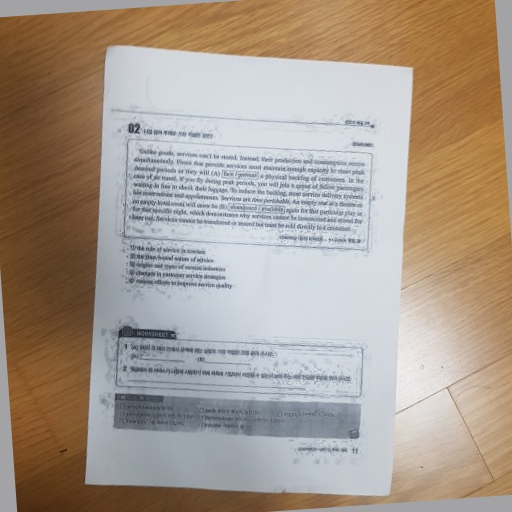Paper_2: (75, 39, 417, 503)
